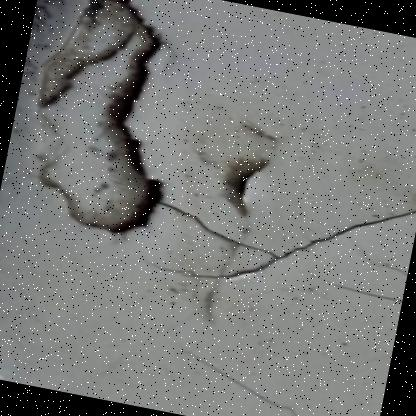Crack: (0, 0, 415, 373), (158, 335, 385, 415)
